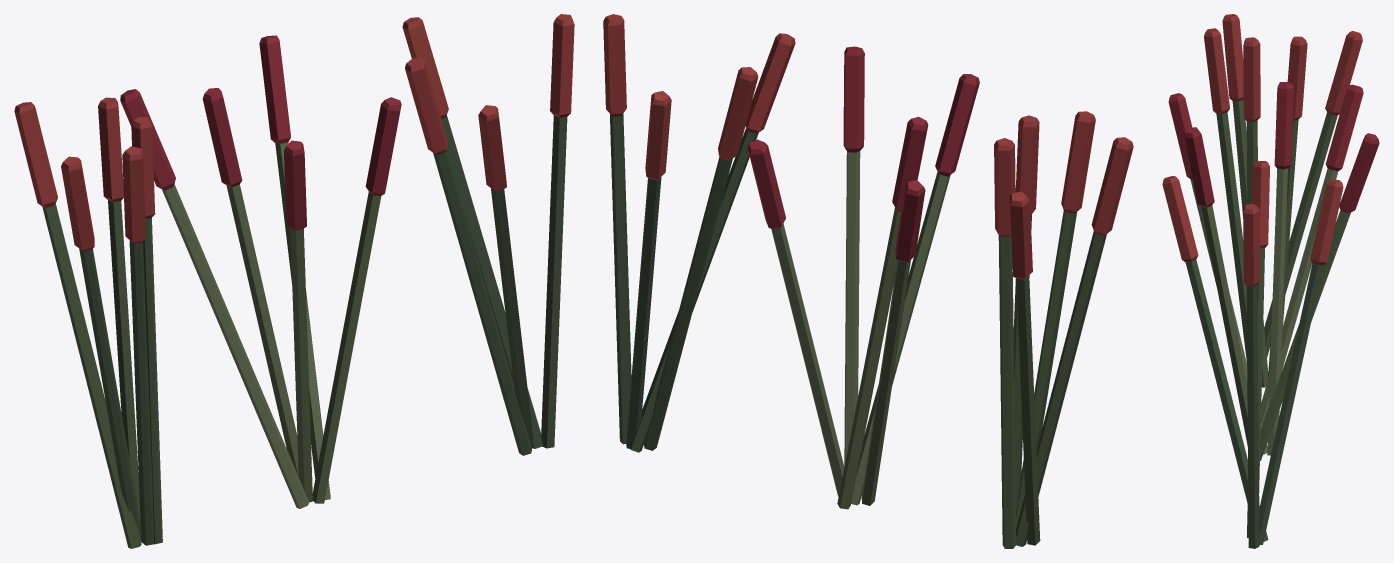
The model's file is Weedreed.FBX.
The picture shows the model from 3 angles, left to right: view 1: azimuth 30°, elevation 25°; view 2: azimuth 150°, elevation 25°; view 3: azimuth 270°, elevation 25°; orthographic projection. The views are drawn at different scales.
Parts seen in each view (by area): view 1: weed1, weed2, weed3; view 2: weed2, weed1, weed3; view 3: weed2, weed3, weed1.
Boxes of the visible parts, x1,y1,x2,y2 form: weed1: (14, 97, 162, 548); weed2: (120, 35, 401, 508); weed3: (402, 14, 574, 455); weed2: (747, 46, 979, 509); weed1: (994, 111, 1133, 548); weed3: (603, 14, 795, 452); weed2: (1168, 82, 1379, 460); weed3: (1162, 161, 1343, 548); weed1: (1204, 14, 1362, 387).
Bounding box in the file's own units: 38.03 × 29.86 × 16.87.
